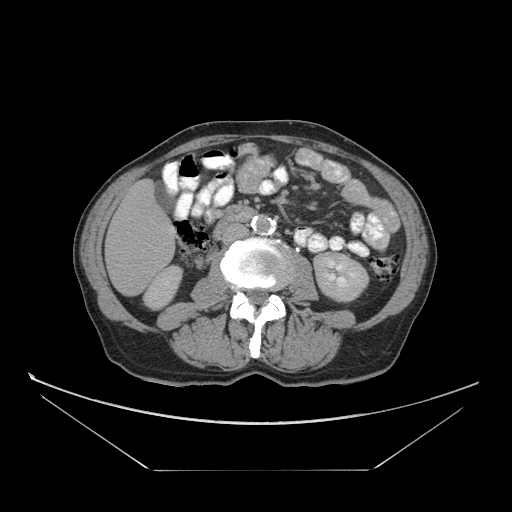left_kidney: (142, 262, 185, 311)
right_kidney: (309, 244, 376, 302)
